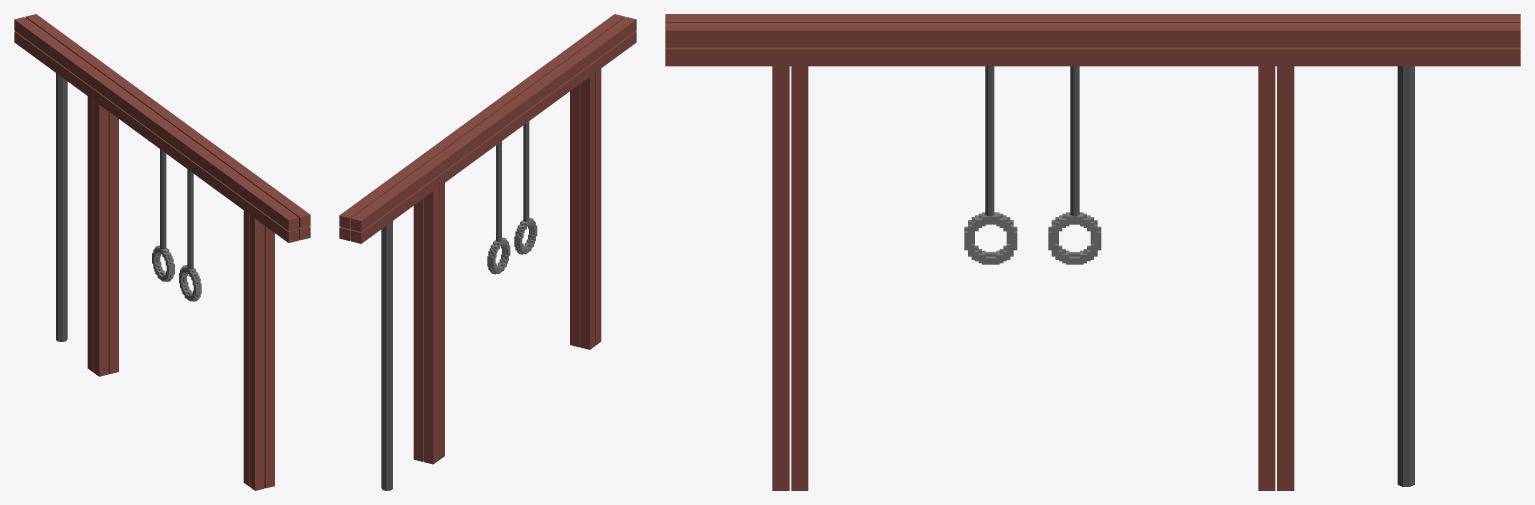
Rendered from furniture7.fbx.
3 views of the same model, side by side, from view 1: azimuth 30°, elevation 25°; view 2: azimuth 150°, elevation 25°; view 3: azimuth 270°, elevation 25° (orthographic). The views are drawn at different scales.
Visible parts, largest first — view 1: Cube.053, Cube.041, Cube.047, Cube.051, Cube.054, Cube.055, Cube.044, Cube.048, Cube.045, Cube.049, Cube.056, Cube.057 (+2 smaller); view 2: Cube.053, Cube.045, Cube.049, Cube.051, Cube.054, Cube.055, Cube.046, Cube.050, Cube.041, Cube.047, Cube.056, Torus (+2 smaller); view 3: Cube.054, Cube.052, Cube.053, Cube.044, Cube.048, Cube.046, Cube.050, Cube.055, Torus.001, Torus, Cube.056, Cube.057.
Part boxes in pixels (x1,y1,x2,y2): Cube.053: (14,17,298,230); Cube.041: (249,215,264,490); Cube.047: (93,101,108,376); Cube.051: (14,31,298,242); Cube.054: (26,14,310,228); Cube.055: (56,73,67,341); Cube.044: (264,226,274,488); Cube.048: (108,112,118,374); Cube.045: (243,210,249,486); Cube.049: (87,96,93,372); Cube.056: (187,169,193,269); Cube.057: (160,149,166,249); Cube.053: (351,17,636,231); Cube.045: (580,73,595,349); Cube.049: (424,187,438,464); Cube.051: (351,31,636,243); Cube.054: (339,14,624,228); Cube.055: (381,221,392,490); Cube.046: (570,84,580,347); Cube.050: (413,198,423,461); Cube.041: (595,68,601,345); Cube.047: (439,183,444,459); Cube.056: (523,121,529,221); Torus: (514,218,537,254); Cube.054: (665,23,1520,47); Cube.052: (665,47,1520,66); Cube.053: (665,14,1520,22); Cube.044: (772,66,789,490); Cube.048: (1258,66,1275,490); Cube.046: (791,66,808,490); Cube.050: (1277,66,1294,490); Cube.055: (1397,66,1414,486); Torus.001: (1048,212,1101,264); Torus: (964,212,1017,264); Cube.056: (985,66,994,216); Cube.057: (1070,66,1079,216).
Bounding box in the file's own units: 24.88 × 318 × 534.
